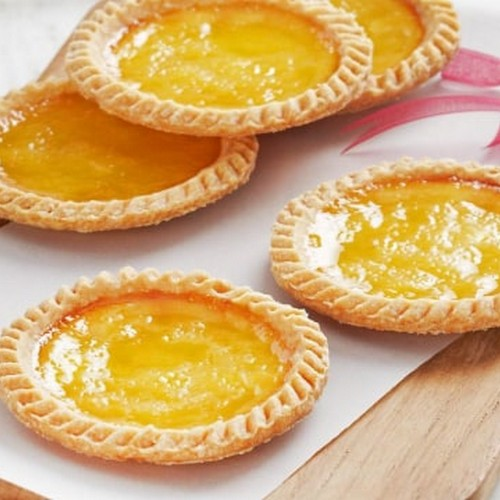pie susu: (5, 276, 330, 459), (68, 5, 366, 142), (264, 185, 500, 343)
